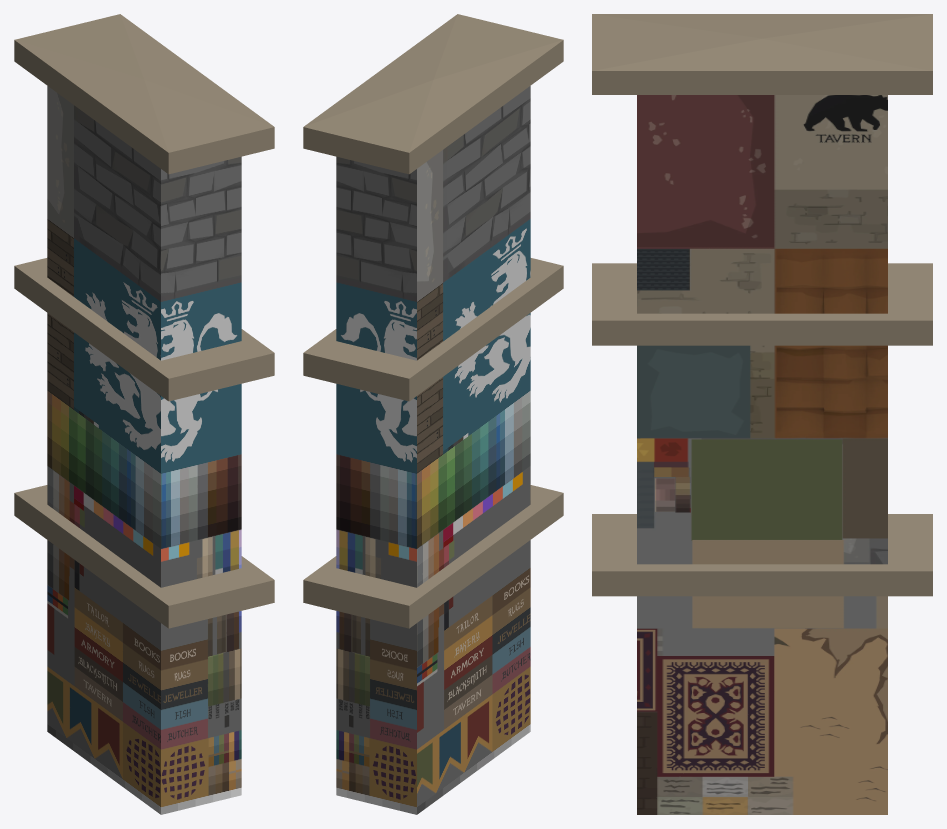
File: kingdom_SM_Bld_Castle_Pillar_Stone_Half_02.gltf
The picture shows the model from 3 angles, left to right: view 1: azimuth 30°, elevation 25°; view 2: azimuth 150°, elevation 25°; view 3: azimuth 270°, elevation 25°; orthographic projection. The views are drawn at different scales.
Visible parts, largest first — view 1: SM_Bld_Castle_Pillar_Stone_Half_02; view 2: SM_Bld_Castle_Pillar_Stone_Half_02; view 3: SM_Bld_Castle_Pillar_Stone_Half_02.
Part boxes in pixels (x1,y1,x2,y2): SM_Bld_Castle_Pillar_Stone_Half_02: [14, 14, 274, 814]; SM_Bld_Castle_Pillar_Stone_Half_02: [303, 14, 563, 814]; SM_Bld_Castle_Pillar_Stone_Half_02: [592, 14, 932, 814].
Size of the model in its own units: 0.816 by 5.03 by 2.06.
1 material, 1 textured.
